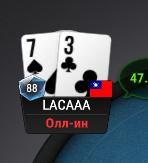3c: (59, 30, 110, 96)
7s: (21, 33, 59, 97)
